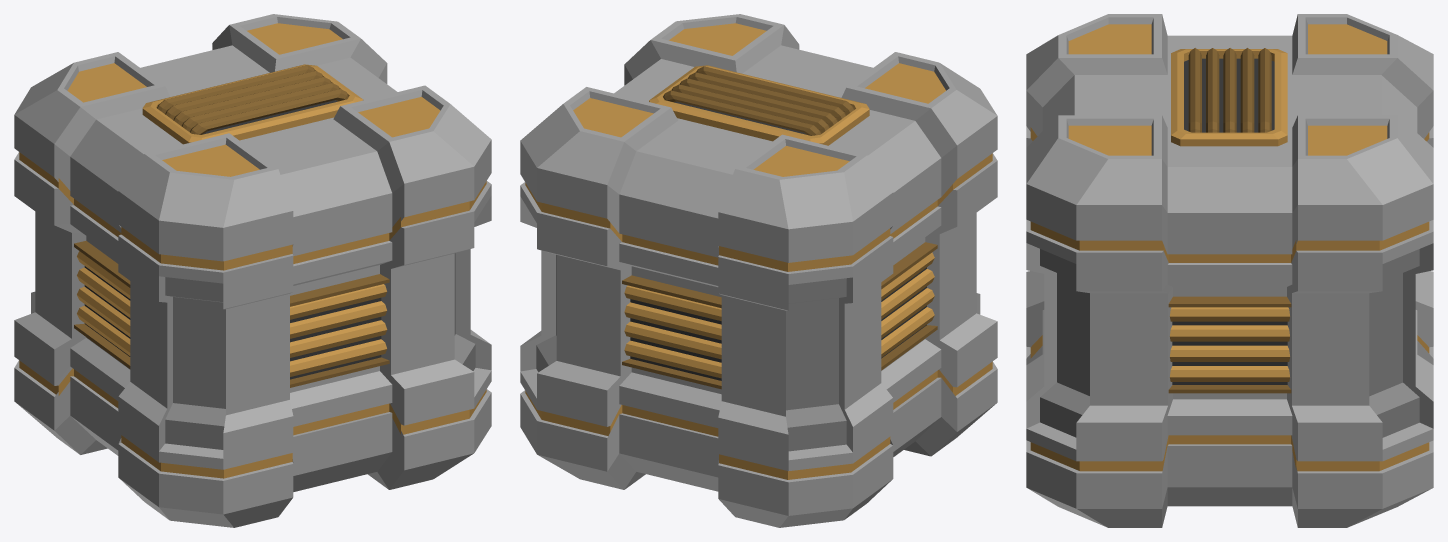
File: Props_Crate_GD.glb
3 renders of one model, left to right at view 1: azimuth 30°, elevation 25°; view 2: azimuth 150°, elevation 25°; view 3: azimuth 270°, elevation 25°, orthographic. The views are drawn at different scales.
Parts seen in each view (by area): view 1: Props_Crate; view 2: Props_Crate; view 3: Props_Crate.
Boxes of the visible parts, <box> form: Props_Crate: <box>14,14,491,527</box>; Props_Crate: <box>520,14,997,527</box>; Props_Crate: <box>1026,14,1433,527</box>.
Bounding box in the file's own units: 5.98 × 6.04 × 5.98.
